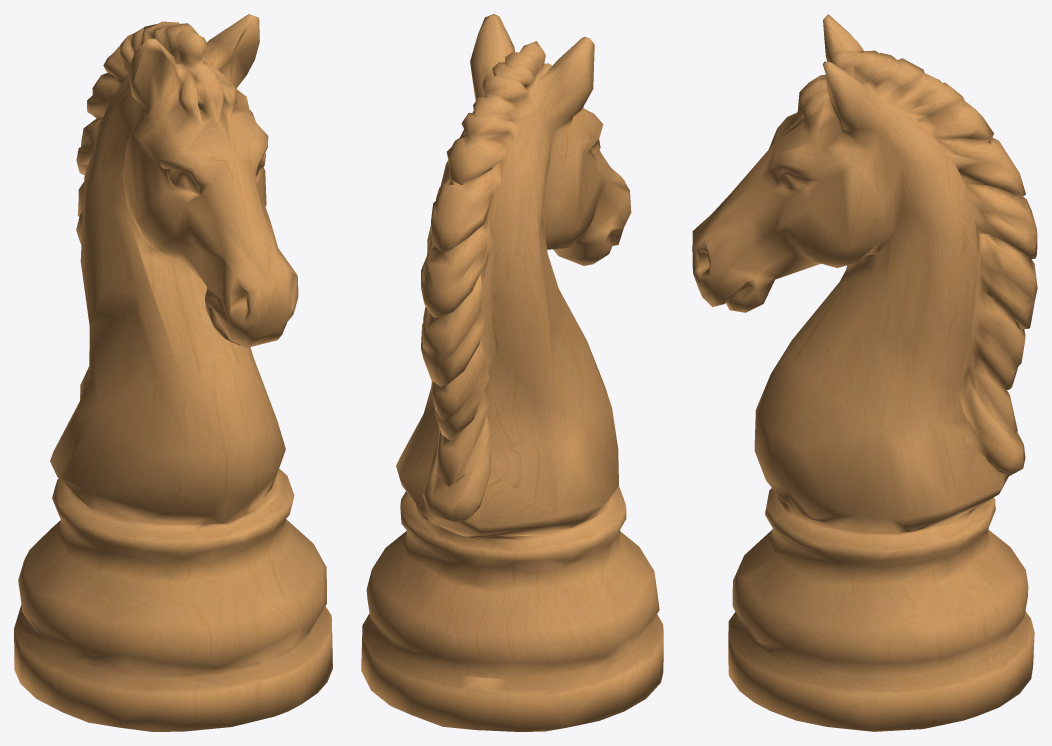
The model's file is caballo.obj.
3 renders of one model, left to right at view 1: azimuth 30°, elevation 25°; view 2: azimuth 150°, elevation 25°; view 3: azimuth 270°, elevation 25°, orthographic. The views are drawn at different scales.
Visible parts, largest first — view 1: Meshy_AI_staunton_chess_knight_0926012000_image-to-3d-texture; view 2: Meshy_AI_staunton_chess_knight_0926012000_image-to-3d-texture; view 3: Meshy_AI_staunton_chess_knight_0926012000_image-to-3d-texture.
Boxes of the visible parts, x1,y1,x2,y2 form: Meshy_AI_staunton_chess_knight_0926012000_image-to-3d-texture: (14, 14, 332, 731); Meshy_AI_staunton_chess_knight_0926012000_image-to-3d-texture: (361, 14, 663, 731); Meshy_AI_staunton_chess_knight_0926012000_image-to-3d-texture: (692, 14, 1037, 731).
Bounding box in the file's own units: 0.0396 × 0.09 × 0.0446.
Materials: 1 (1 with a texture image).
